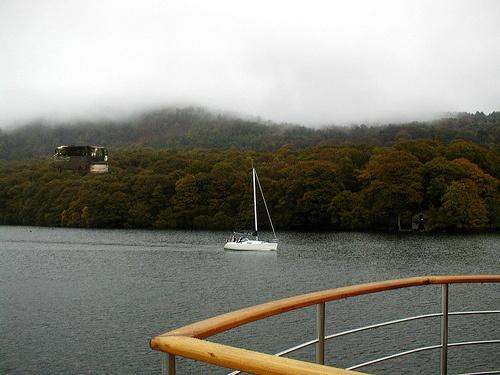tampered: (54, 146, 108, 173)
